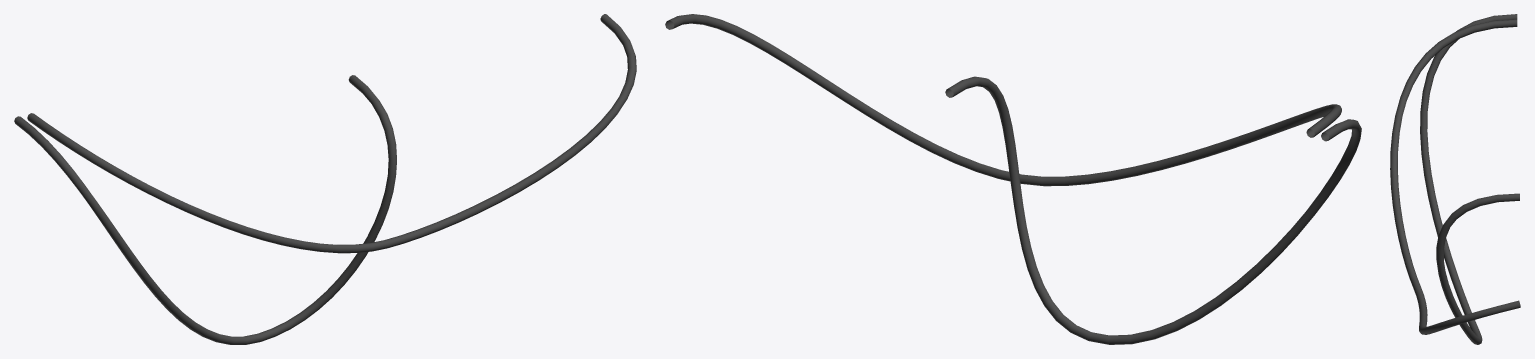
File: Cables 1.fbx
The picture shows the model from 3 angles, left to right: view 1: azimuth 30°, elevation 25°; view 2: azimuth 150°, elevation 25°; view 3: azimuth 270°, elevation 25°; orthographic projection. The views are drawn at different scales.
Visible parts, largest first — view 1: Cables; view 2: Cables; view 3: Cables.
Part boxes in pixels (x1,y1,x2,y2): Cables: (14,14,636,344); Cables: (665,14,1361,344); Cables: (1390,14,1520,344).
Bounding box in the file's own units: 115 × 48.22 × 25.07.
